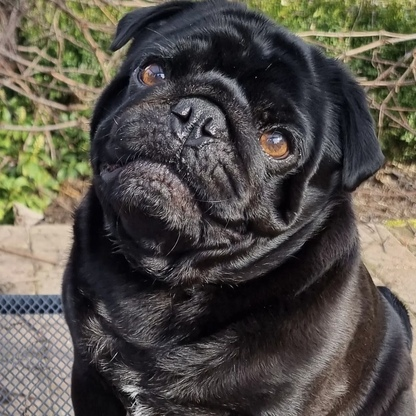Pug: (50, 1, 415, 416)
